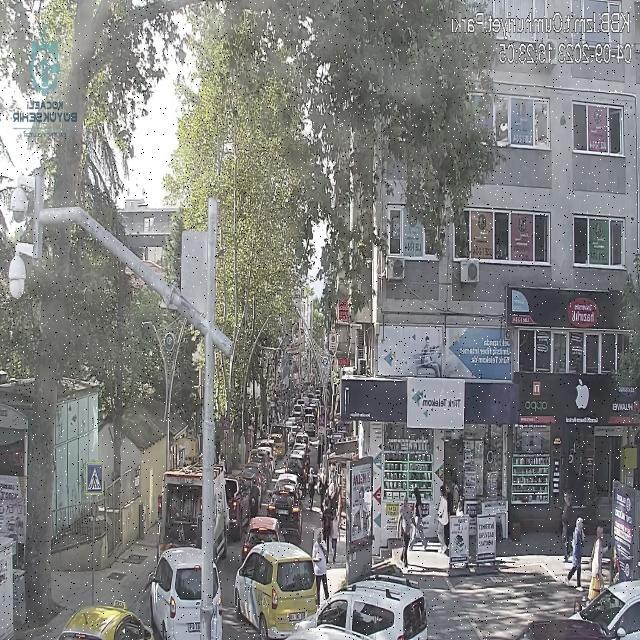Car: (297, 575, 427, 640), (147, 547, 222, 640), (564, 580, 640, 640), (56, 598, 156, 640), (514, 616, 627, 640), (269, 488, 305, 541), (242, 516, 286, 558), (274, 472, 302, 503)
Truck: (156, 458, 232, 562), (222, 475, 254, 539)
Van: (235, 540, 317, 640)
